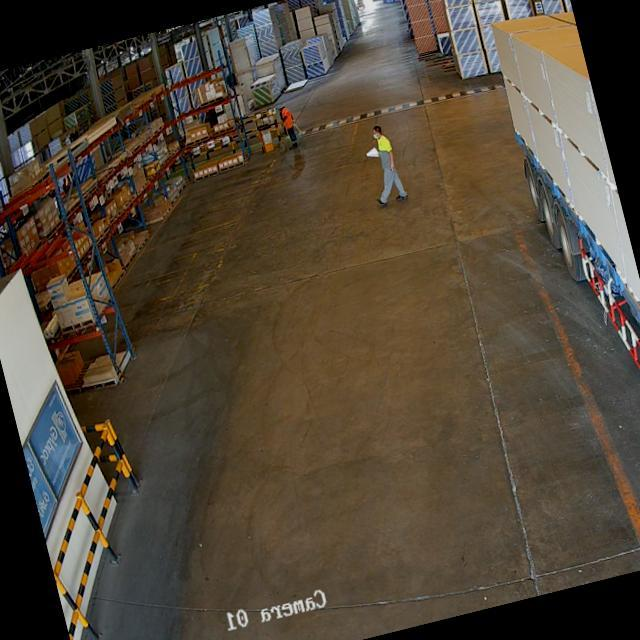person: (358, 115, 414, 212), (274, 98, 302, 148)
